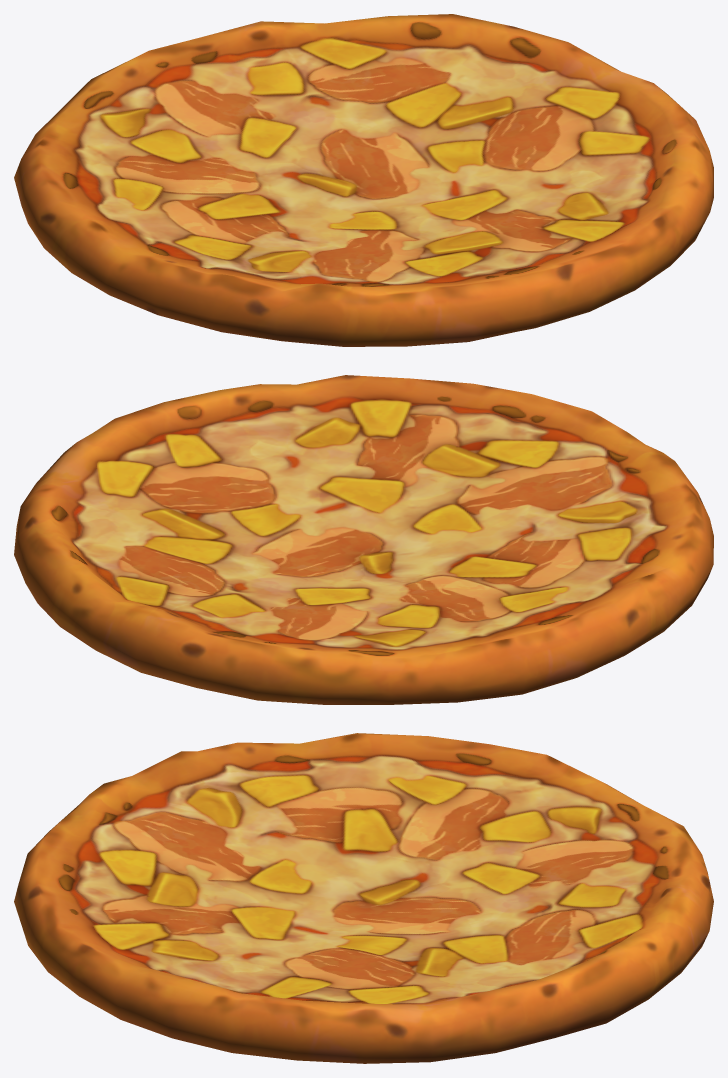
File: Pizza.fbx
3 renders of one model, top to bottom at view 1: azimuth 30°, elevation 25°; view 2: azimuth 150°, elevation 25°; view 3: azimuth 270°, elevation 25°, orthographic.
Visible parts, largest first — view 1: Pizza; view 2: Pizza; view 3: Pizza.
Boxes of the visible parts, bbox=[...] form: Pizza: bbox=[14, 14, 713, 346]; Pizza: bbox=[14, 375, 713, 704]; Pizza: bbox=[14, 733, 713, 1063].
Bounding box in the file's own units: 44.85 × 4.58 × 44.81.
Materials: 1 (1 with a texture image).
